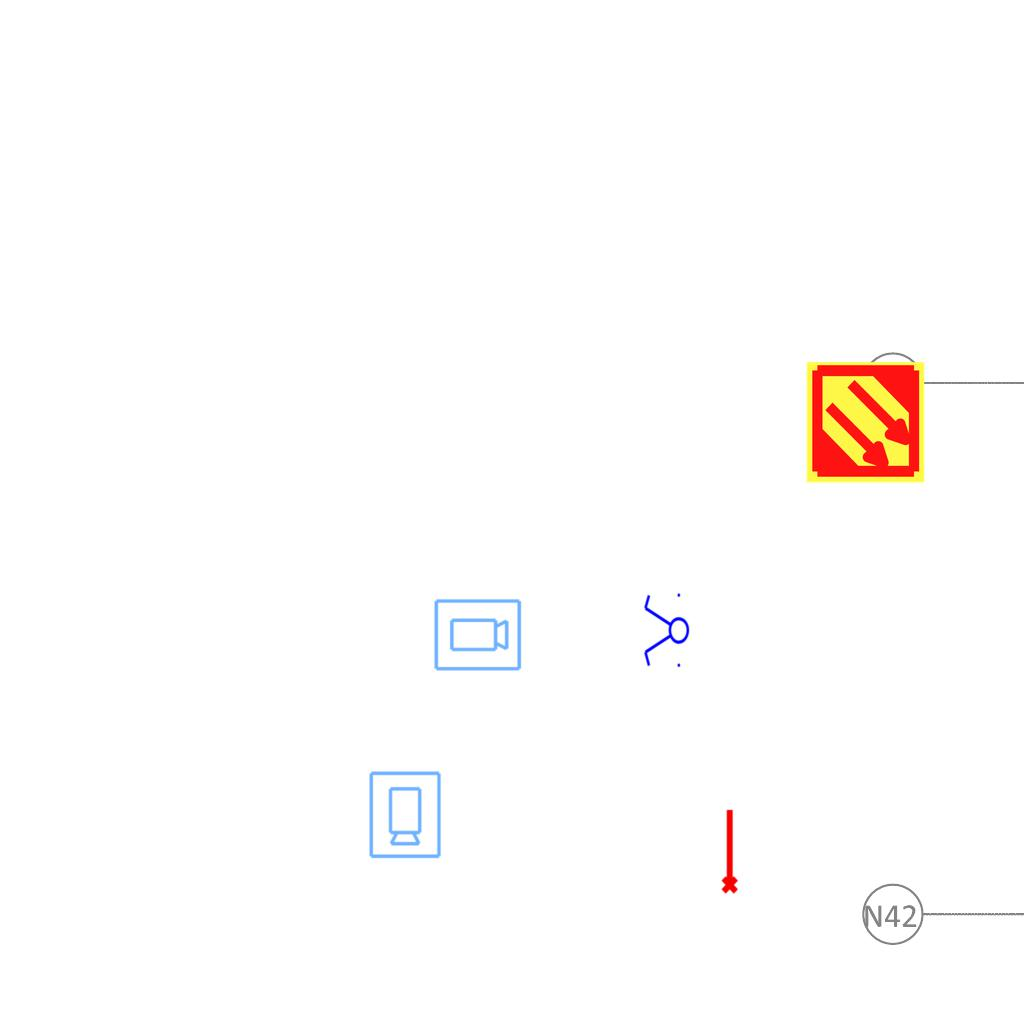ASR_Ansaugoeffnung: (717, 807, 740, 895)
ASR_Ansaugrauchmelder: (803, 360, 928, 485)
KFO_Kamera_mit_Festobjektiv: (432, 597, 523, 674), (366, 769, 443, 860)
Serienschalter: (642, 589, 690, 673)
